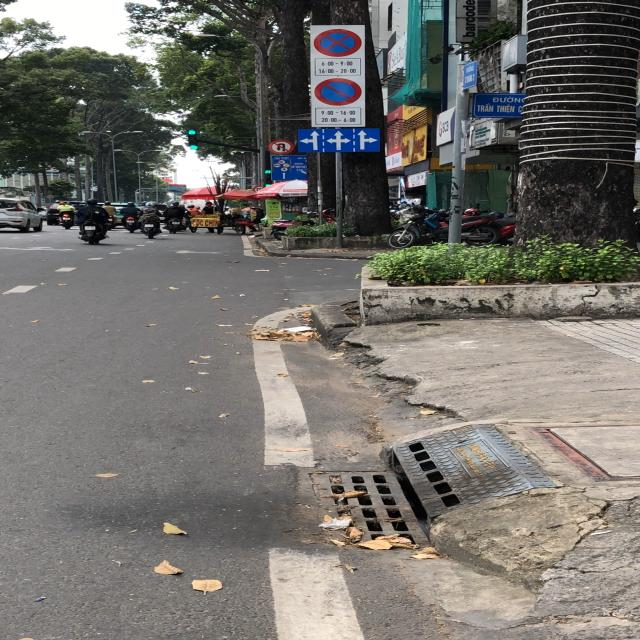Bien bao cam do xe: (312, 75, 364, 106)
Bien bao cam dung xe va do xe: (311, 26, 368, 60)
Bien bao cam quay dau xe: (267, 137, 293, 156)
